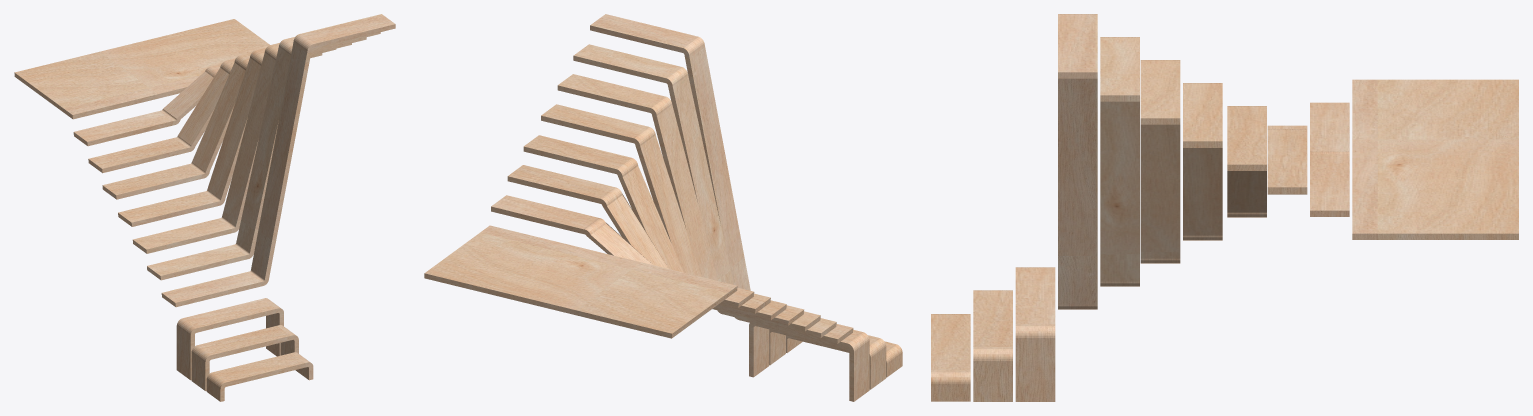
File: modern_staircase_2.obj
3 renders of one model, left to right at view 1: azimuth 30°, elevation 25°; view 2: azimuth 150°, elevation 25°; view 3: azimuth 270°, elevation 25°, orthographic. The views are drawn at different scales.
Parts seen in each view (by area): view 1: Modern_Staircase; view 2: Modern_Staircase; view 3: Modern_Staircase.
Part boxes in pixels (x1,y1,x2,y2): Modern_Staircase: [14, 14, 395, 401]; Modern_Staircase: [424, 14, 902, 401]; Modern_Staircase: [931, 14, 1518, 401].
Size of the model in its own units: 2.58 by 3.27 by 4.17.
Materials: 1 (1 with a texture image).
